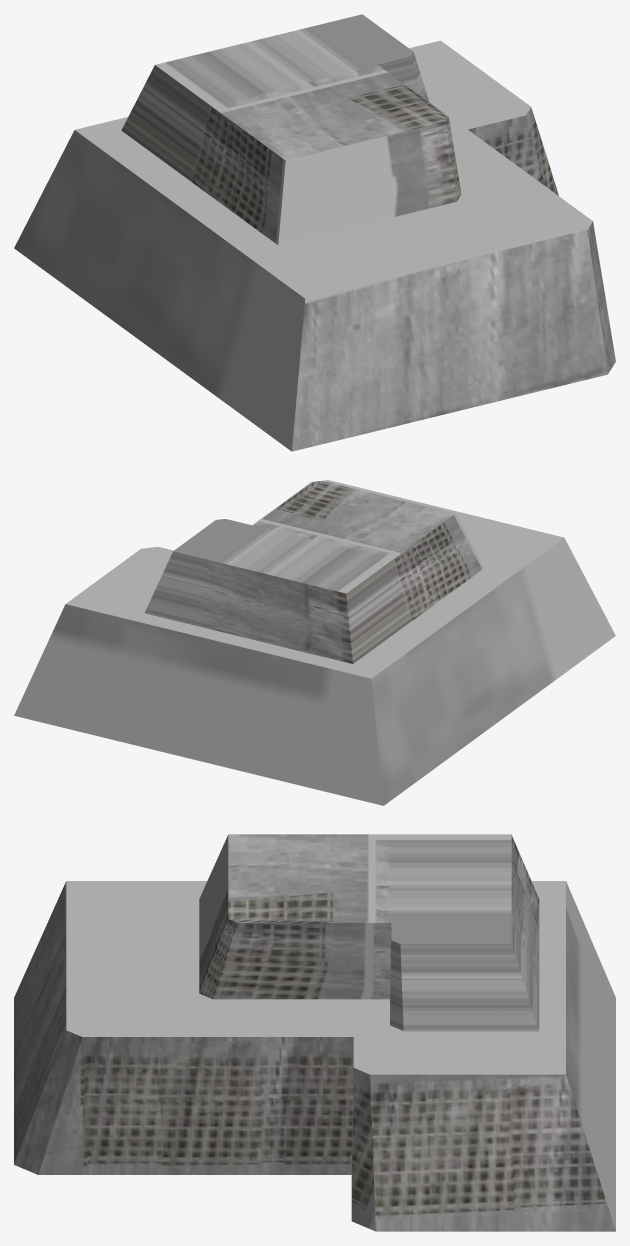
File: brutalism buildings.fbx
3 renders of one model, top to bottom at view 1: azimuth 30°, elevation 25°; view 2: azimuth 150°, elevation 25°; view 3: azimuth 270°, elevation 25°, orthographic. The views are drawn at different scales.
Visible parts, largest first — view 1: Cube.001; view 2: Cube.001; view 3: Cube.001.
Boxes of the visible parts, x1,y1,x2,y2 form: Cube.001: [14, 14, 615, 451]; Cube.001: [14, 480, 615, 805]; Cube.001: [14, 834, 615, 1231].
Size of the model in its own units: 1812 by 768 by 1972.
